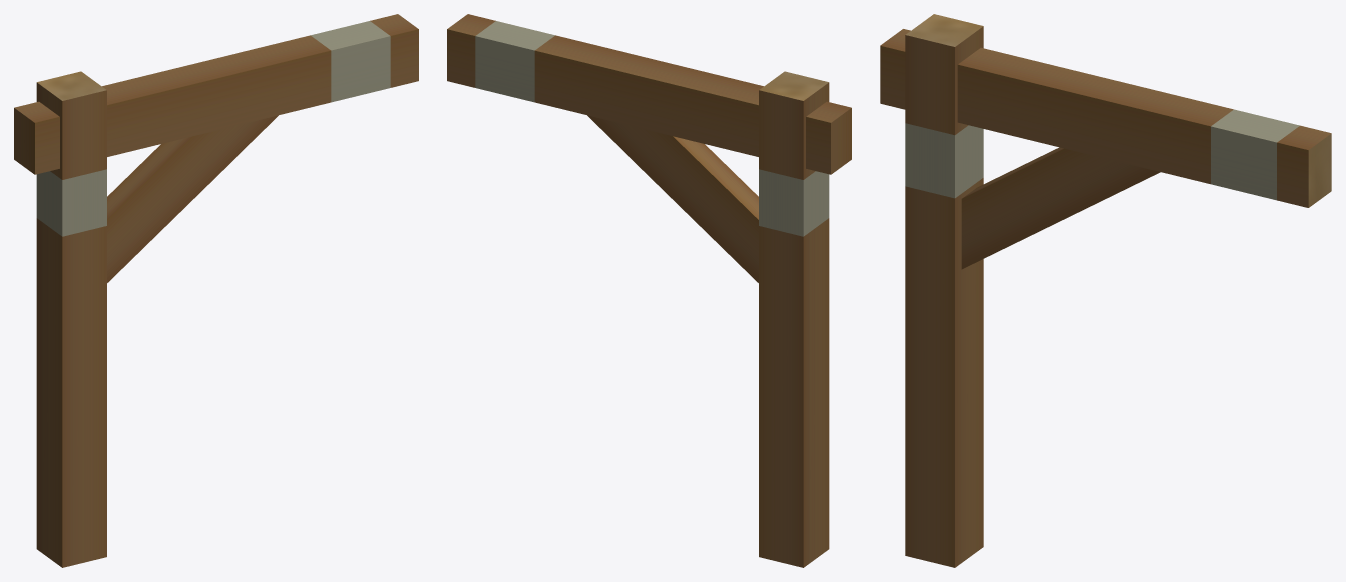
The model's file is Pole_2.fbx.
3 views of the same model, side by side, from view 1: azimuth 30°, elevation 25°; view 2: azimuth 150°, elevation 25°; view 3: azimuth 330°, elevation 25° (orthographic). The views are drawn at different scales.
Visible parts, largest first — view 1: polySurface9782; view 2: polySurface9782; view 3: polySurface9782.
Part boxes in pixels (x1,y1,x2,y2): polySurface9782: (14,14,418,567); polySurface9782: (447,14,851,567); polySurface9782: (880,14,1331,567).
Size of the model in its own units: 216 by 251 by 25.
